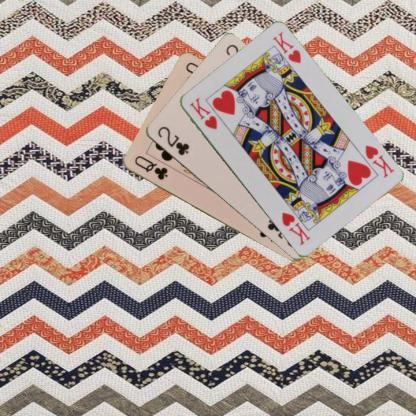2c: (154, 124, 191, 157)
Kh: (362, 142, 396, 180), (186, 94, 218, 130)
Qc: (131, 152, 169, 182)
